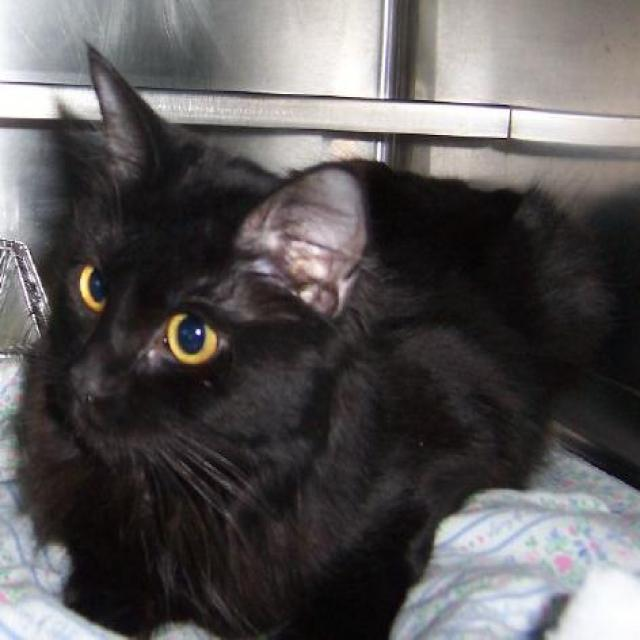Cats: (9, 38, 624, 638)
